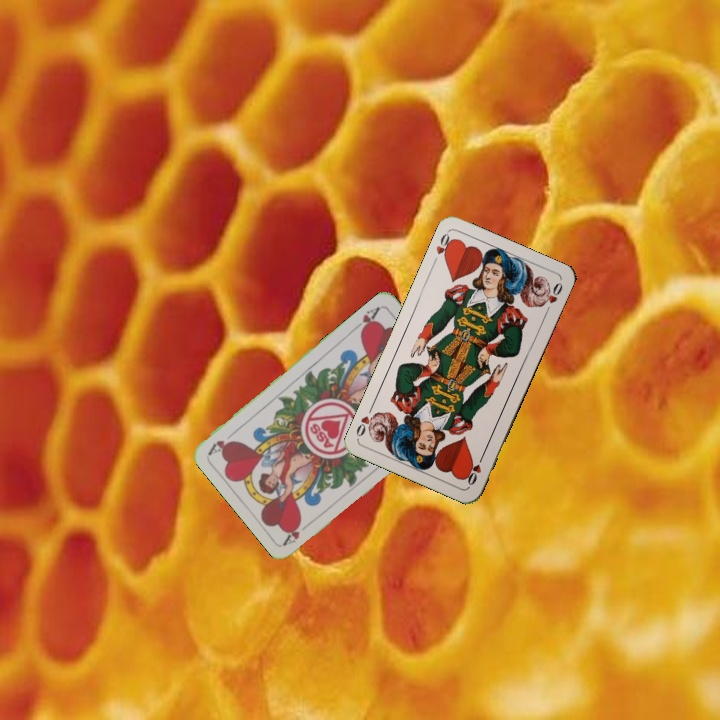HA: (349, 302, 383, 336), (280, 517, 315, 548)
HO: (429, 229, 457, 267), (462, 450, 487, 488)
